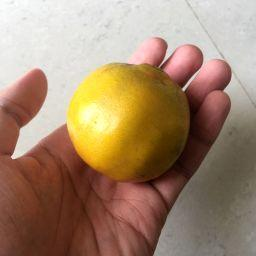Ripe: (65, 65, 190, 183)
